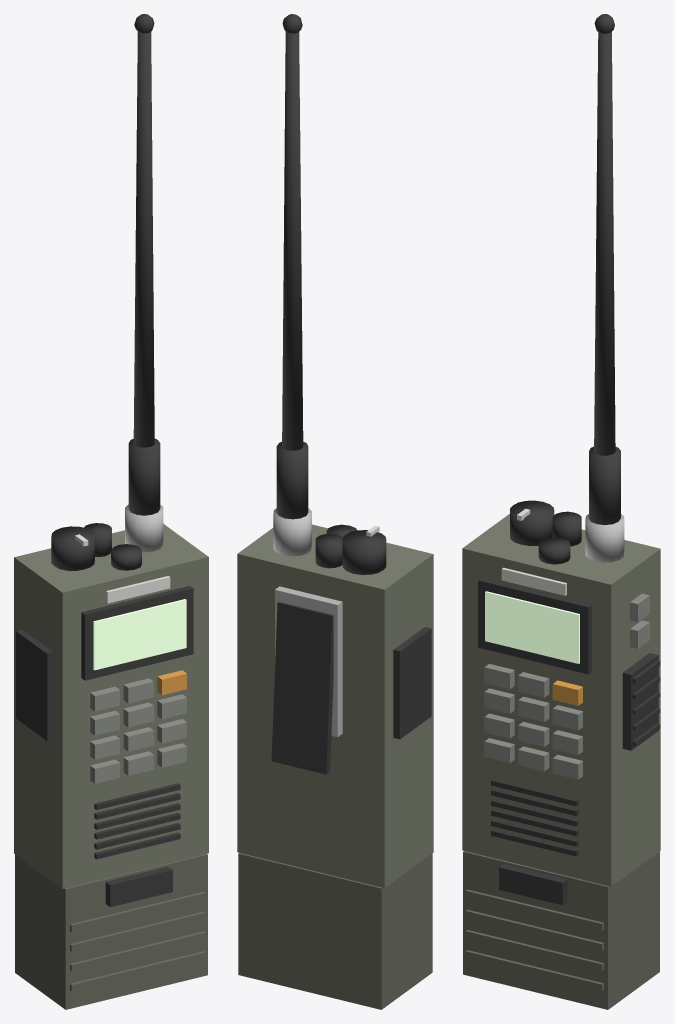
The model's file is radio.glb.
3 renders of one model, left to right at view 1: azimuth 30°, elevation 25°; view 2: azimuth 150°, elevation 25°; view 3: azimuth 330°, elevation 25°, orthographic.
Visible parts, largest first — view 1: radio_body; view 2: radio_body; view 3: radio_body.
Part boxes in pixels (x1=…): radio_body: x1=14, y1=14, x2=208, y2=1009; radio_body: x1=237, y1=14, x2=433, y2=1009; radio_body: x1=462, y1=14, x2=660, y2=1009.
Size of the model in its own units: 0.0786 by 0.4312 by 0.0549.
